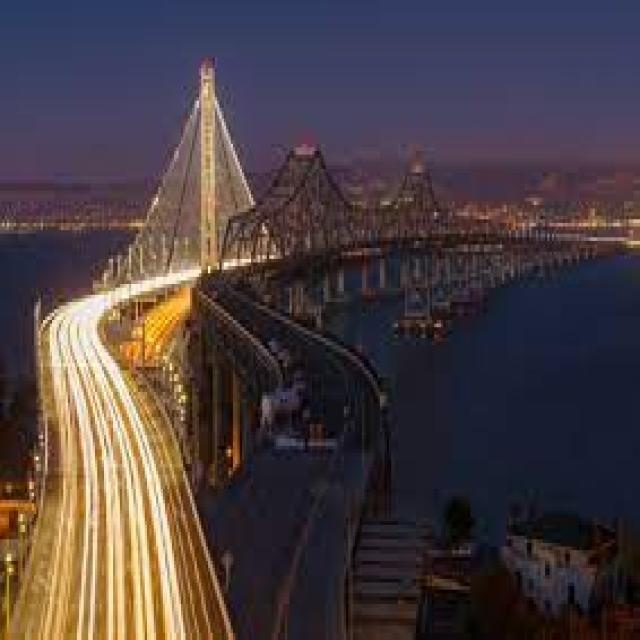Bridges: (29, 46, 529, 640)
